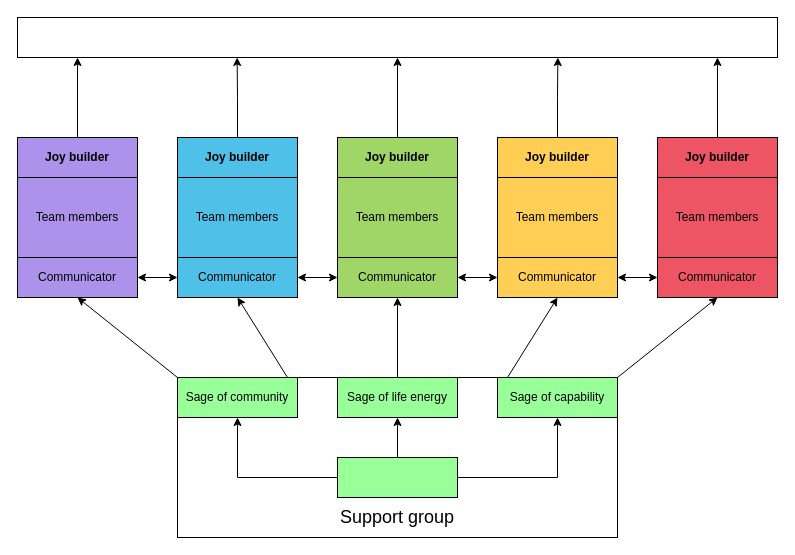
Image size: 795x555. Some labels were removed from this diagram. The shapes that lost their labels are listed below. From the top down, each one's centre as x and y in pixels, then its label:
At [397,37]: "Success".
At [397,477]: "Wise sage".
